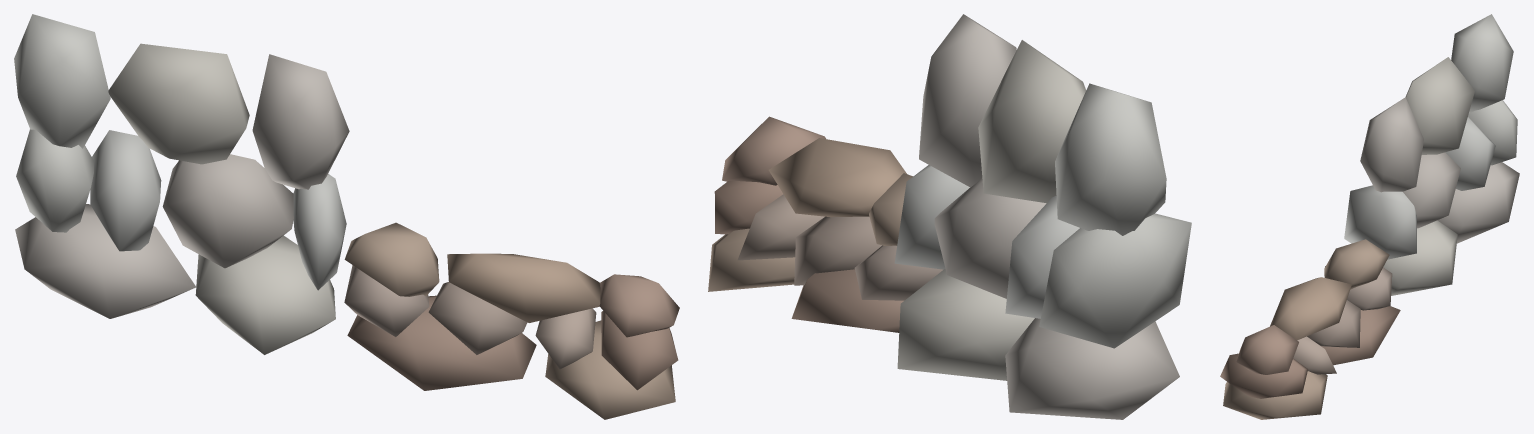
The model's file is farm_17_26_near.glb.
The picture shows the model from 3 angles, left to right: view 1: azimuth 30°, elevation 25°; view 2: azimuth 150°, elevation 25°; view 3: azimuth 270°, elevation 25°; orthographic projection. The views are drawn at different scales.
Parts seen in each view (by area): view 1: geometry_0; view 2: geometry_0; view 3: geometry_0.
Boxes of the visible parts, left/top/right/bottom form: geometry_0: left=14, top=14, right=679, bottom=419; geometry_0: left=708, top=14, right=1191, bottom=419; geometry_0: left=1220, top=14, right=1519, bottom=419.
Size of the model in its own units: 2.82 by 1.96 by 2.09.
